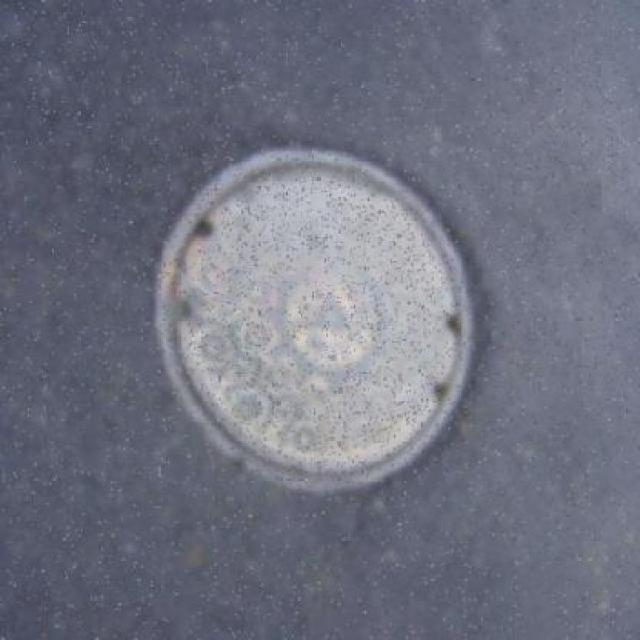Manhole: (149, 138, 495, 500)
